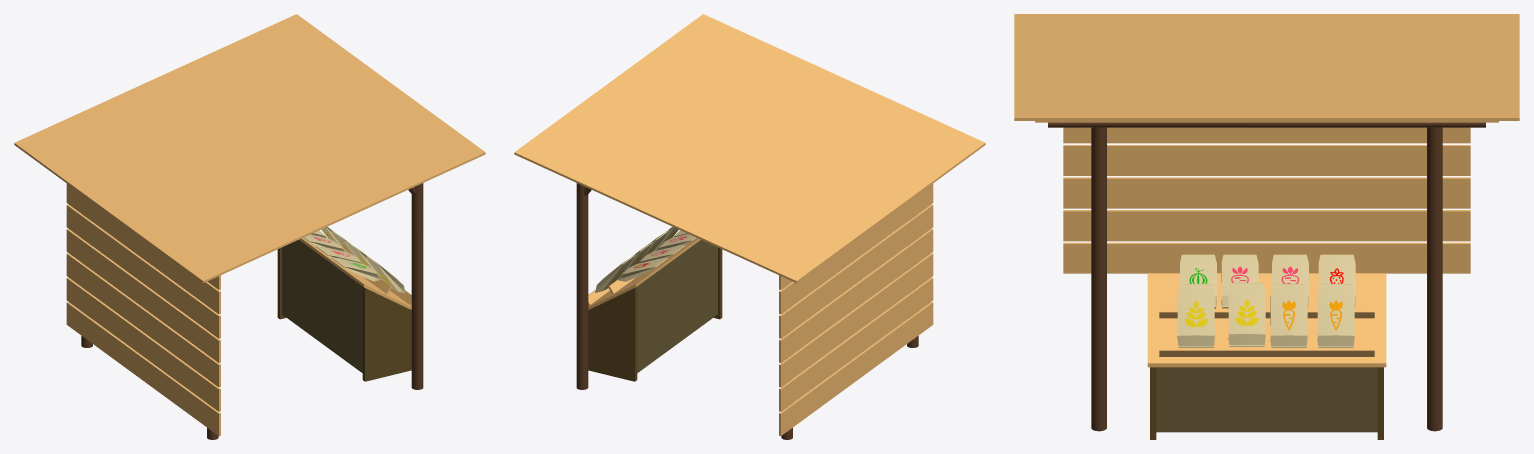
The model's file is Seed_shop.fbx.
The picture shows the model from 3 angles, left to right: view 1: azimuth 30°, elevation 25°; view 2: azimuth 150°, elevation 25°; view 3: azimuth 270°, elevation 25°; orthographic projection. The views are drawn at different scales.
Parts seen in each view (by area): view 1: Seed_shop_LOD0; view 2: Seed_shop_LOD0; view 3: Seed_shop_LOD0.
Part boxes in pixels (x1,y1,x2,y2): Seed_shop_LOD0: [14, 14, 485, 439]; Seed_shop_LOD0: [514, 14, 985, 439]; Seed_shop_LOD0: [1014, 14, 1519, 439].
Size of what is drawn, in the model's own units: 294 by 341 by 249.
